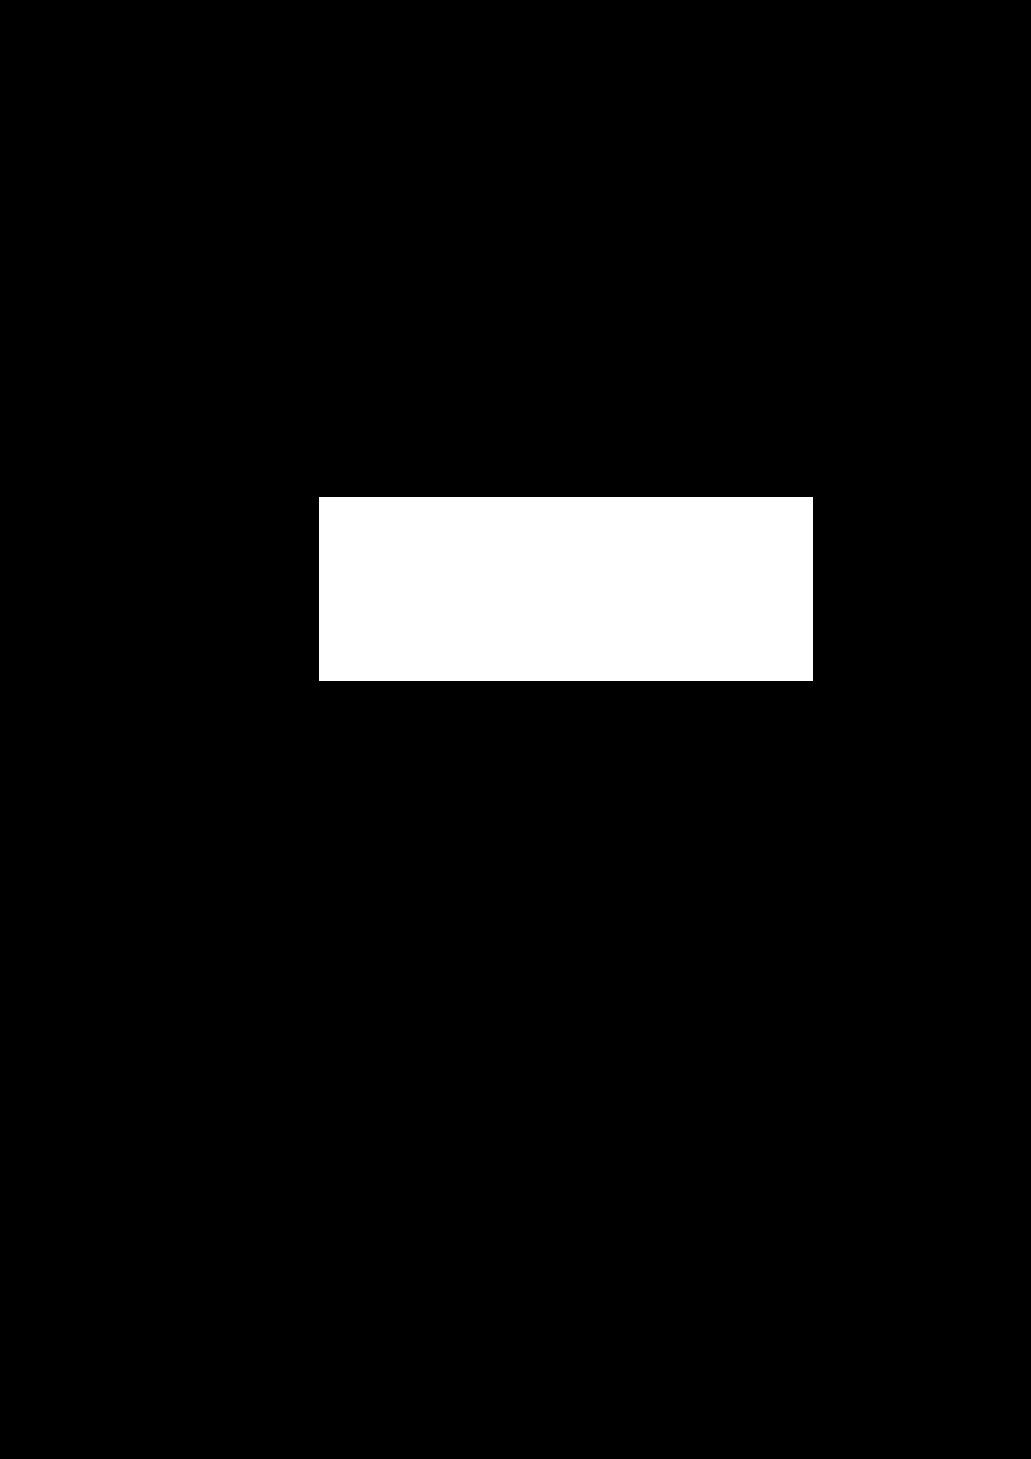table: (319, 497, 812, 680)
